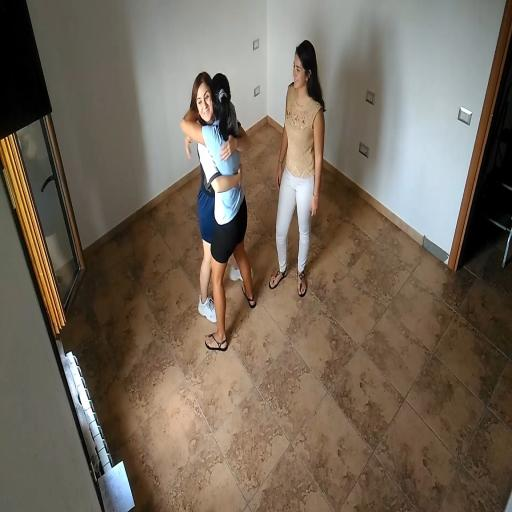nao-violencia: (169, 64, 264, 362)
